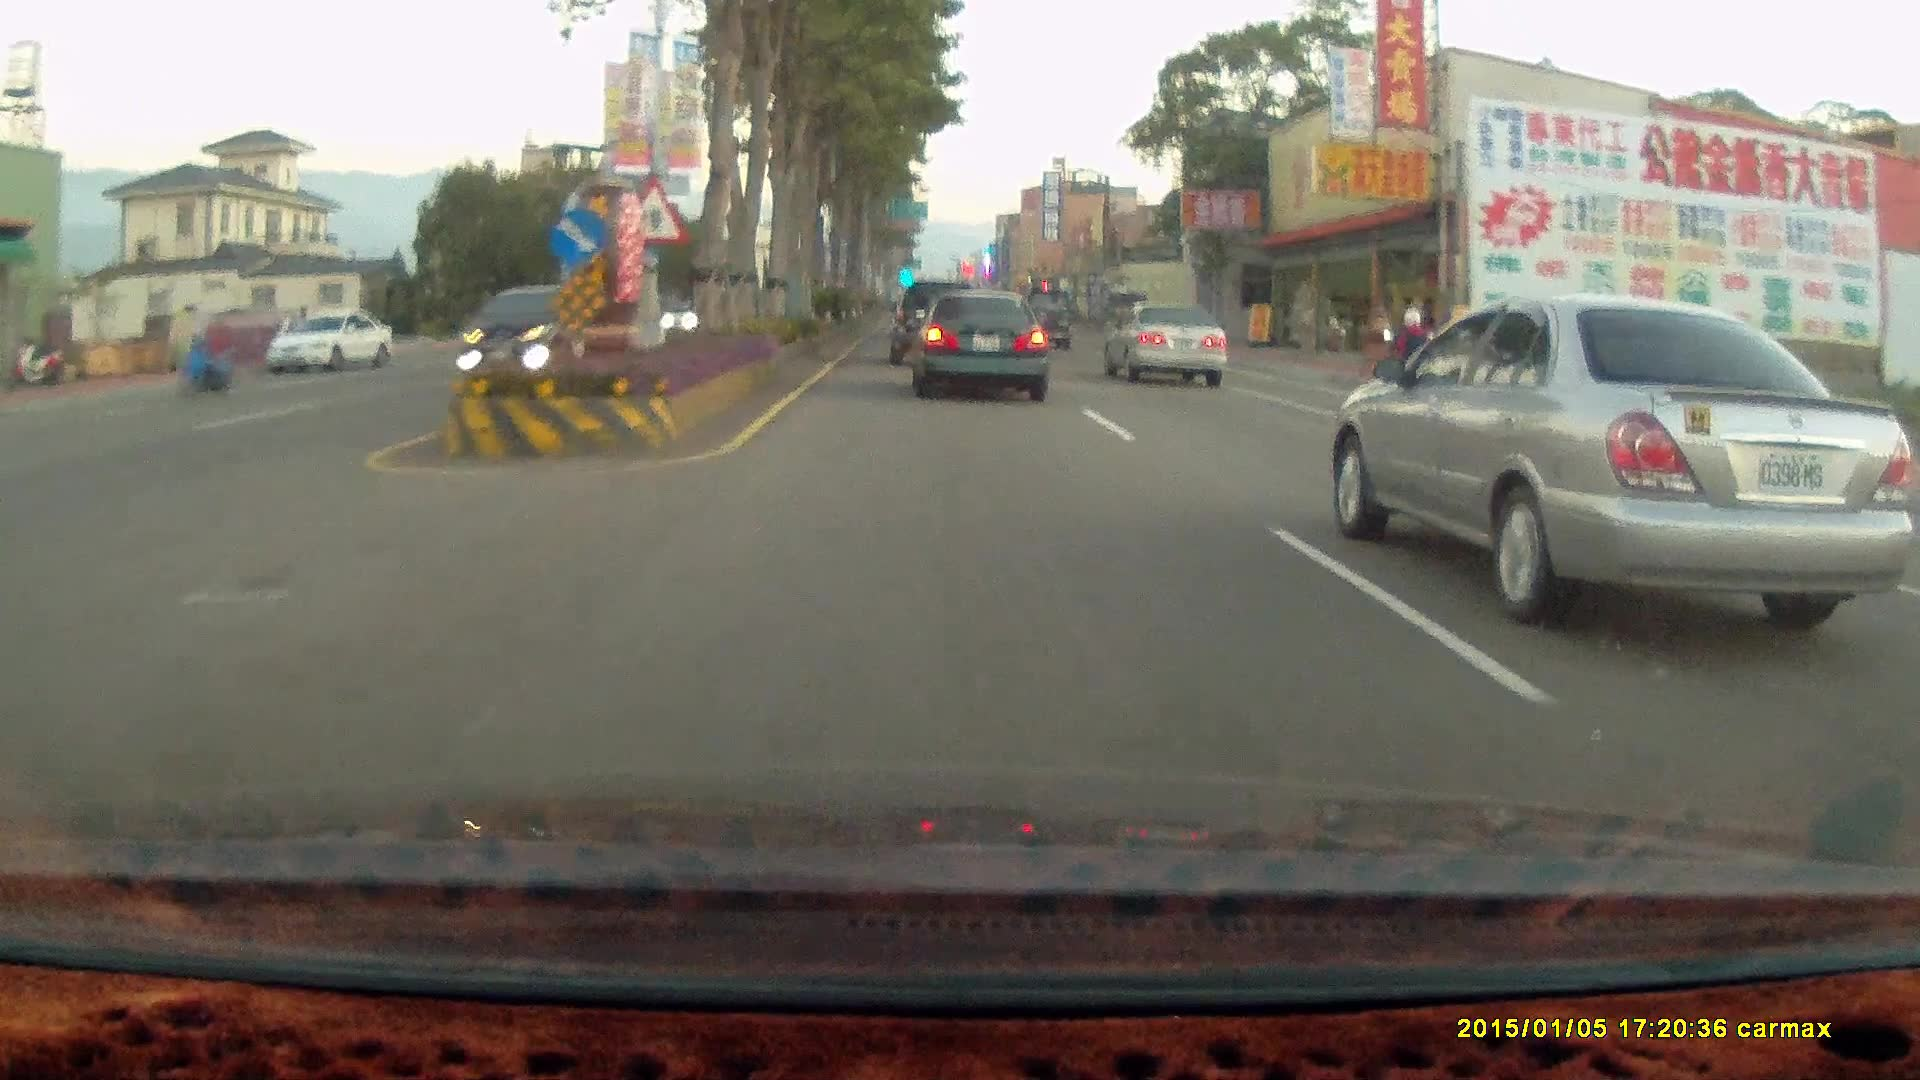rider: (1375, 295, 1446, 425), (179, 292, 237, 403), (1380, 322, 1433, 430)
vehicle: (1345, 288, 1920, 630), (911, 288, 1054, 403), (904, 288, 1048, 400), (457, 281, 598, 388), (1108, 303, 1232, 389), (1102, 301, 1225, 386), (269, 311, 398, 377), (264, 306, 393, 372), (886, 279, 980, 369), (889, 282, 976, 368), (1012, 287, 1073, 350)
